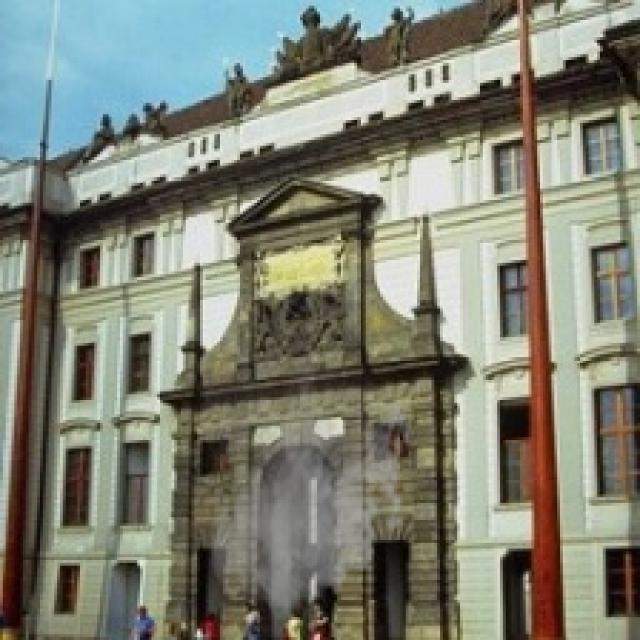smoke: (203, 368, 417, 628)
